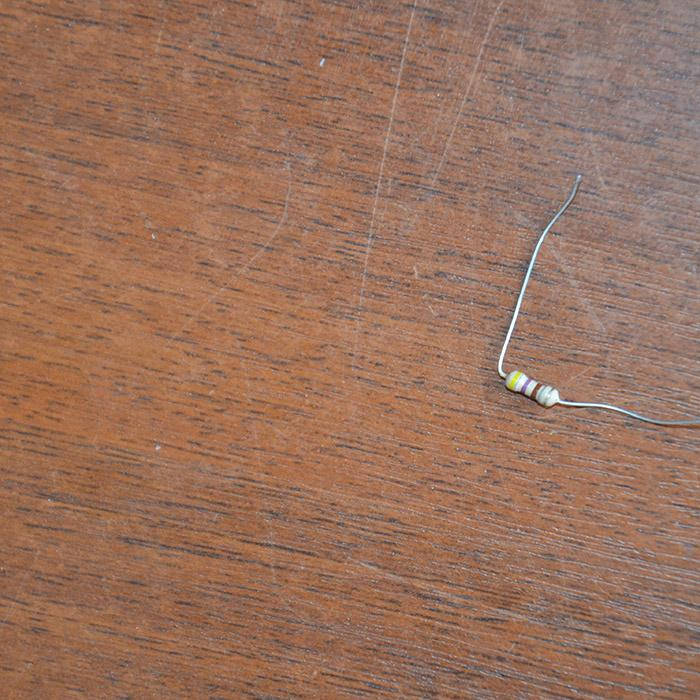resistor: (502, 368, 559, 406)
